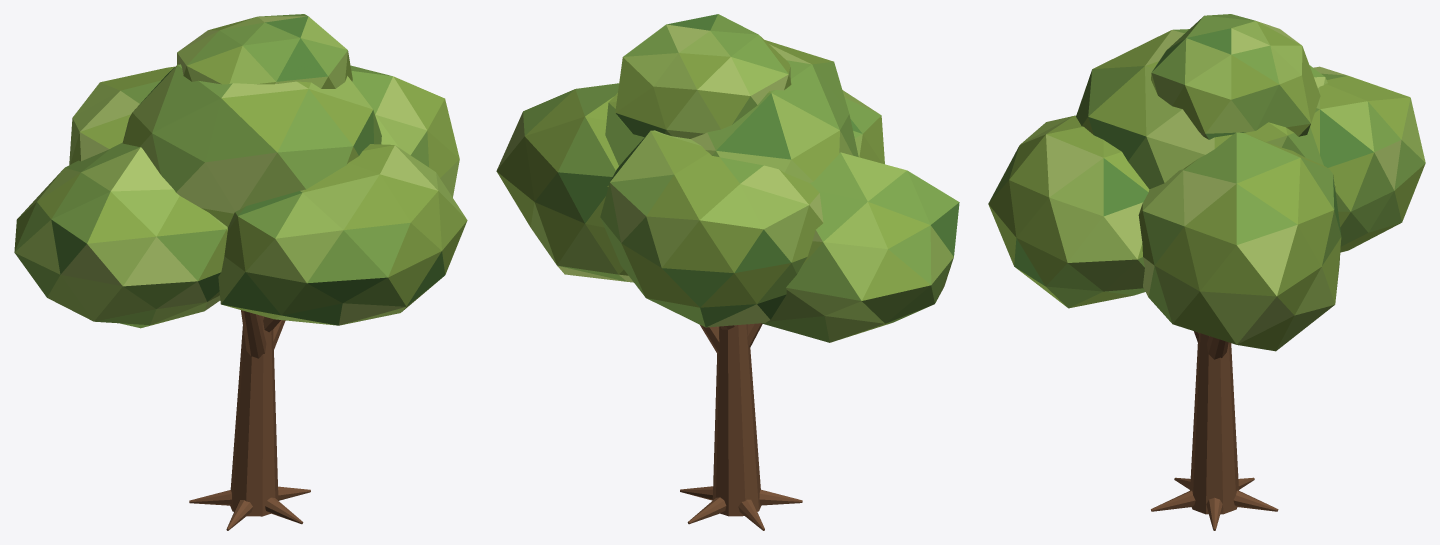
File: arvore-nativa-v1.glb
The picture shows the model from 3 angles, left to right: view 1: azimuth 30°, elevation 25°; view 2: azimuth 150°, elevation 25°; view 3: azimuth 270°, elevation 25°; orthographic projection. The views are drawn at different scales.
Visible parts, largest first — view 1: Copa-03, Copa-01, Copa-00, Copa-05, Tronco, Copa-02, Copa-04, Galho-03; view 2: Copa-04, Copa-01, Copa-02, Copa-05, Copa-00, Tronco, Copa-03; view 3: Copa-02, Copa-03, Copa-05, Copa-04, Copa-00, Tronco.
Part boxes in pixels (bbox=[...]): Copa-03: bbox=[218, 144, 467, 325]; Copa-01: bbox=[14, 142, 227, 328]; Copa-00: bbox=[122, 64, 381, 227]; Copa-05: bbox=[177, 14, 352, 88]; Tronco: bbox=[230, 315, 278, 516]; Copa-02: bbox=[350, 65, 459, 197]; Copa-04: bbox=[69, 66, 174, 164]; Galho-03: bbox=[241, 310, 266, 358]; Copa-04: bbox=[600, 130, 823, 327]; Copa-01: bbox=[762, 152, 959, 342]; Copa-02: bbox=[496, 83, 633, 282]; Copa-05: bbox=[615, 14, 791, 138]; Copa-00: bbox=[605, 40, 858, 187]; Tronco: bbox=[712, 324, 760, 516]; Copa-03: bbox=[842, 90, 884, 164]; Copa-02: bbox=[1138, 132, 1341, 351]; Copa-03: bbox=[988, 115, 1149, 308]; Copa-05: bbox=[1151, 14, 1320, 139]; Copa-04: bbox=[1310, 66, 1425, 252]; Copa-00: bbox=[1076, 29, 1335, 189]; Tronco: bbox=[1190, 333, 1238, 514].
Bounding box in the file's own units: 9.06 × 9.66 × 7.89.
